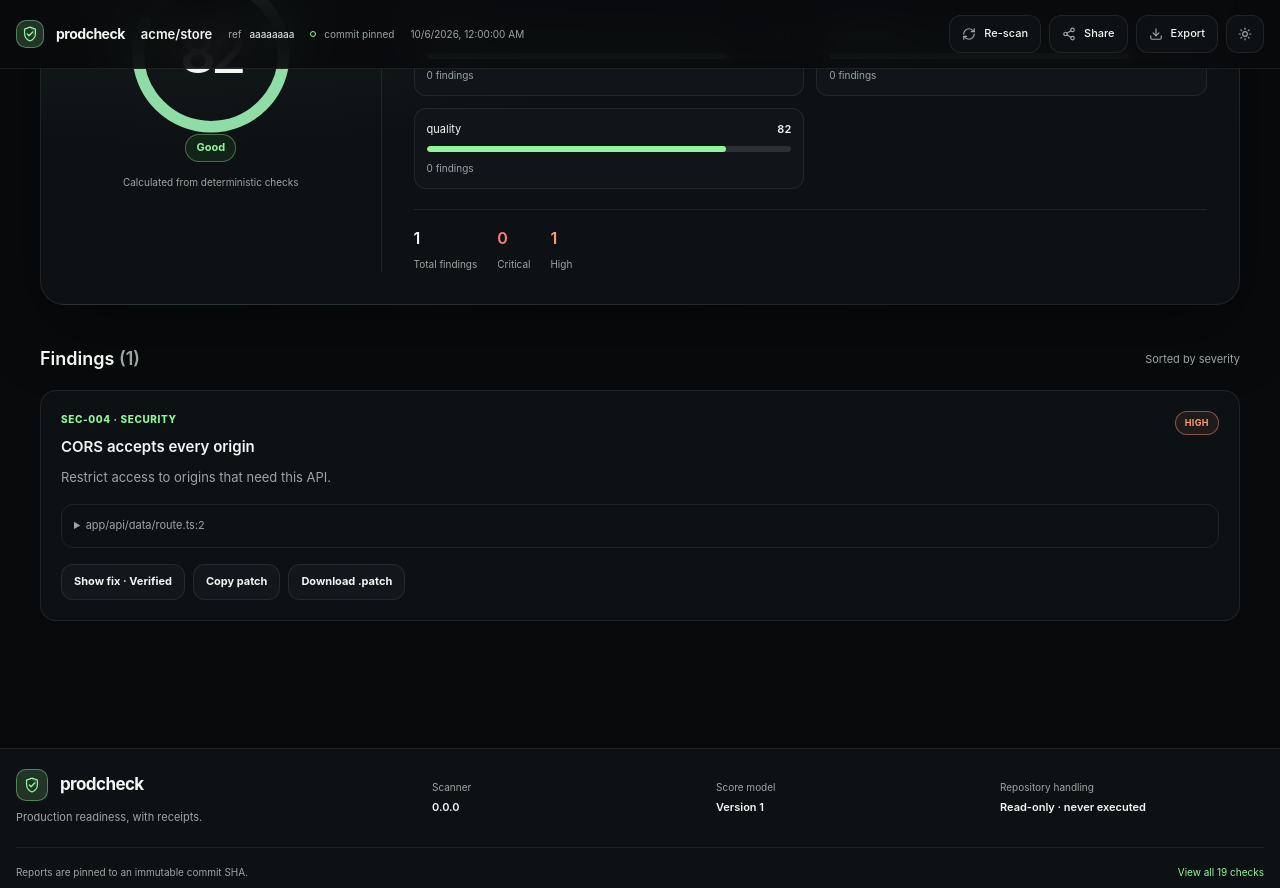
Test case: shared UI button › renders an accessible score summary and verified finding fix
(page scrolled)
Click the button "Show fix · Verified": click(123, 582) [61, 564, 185, 600]
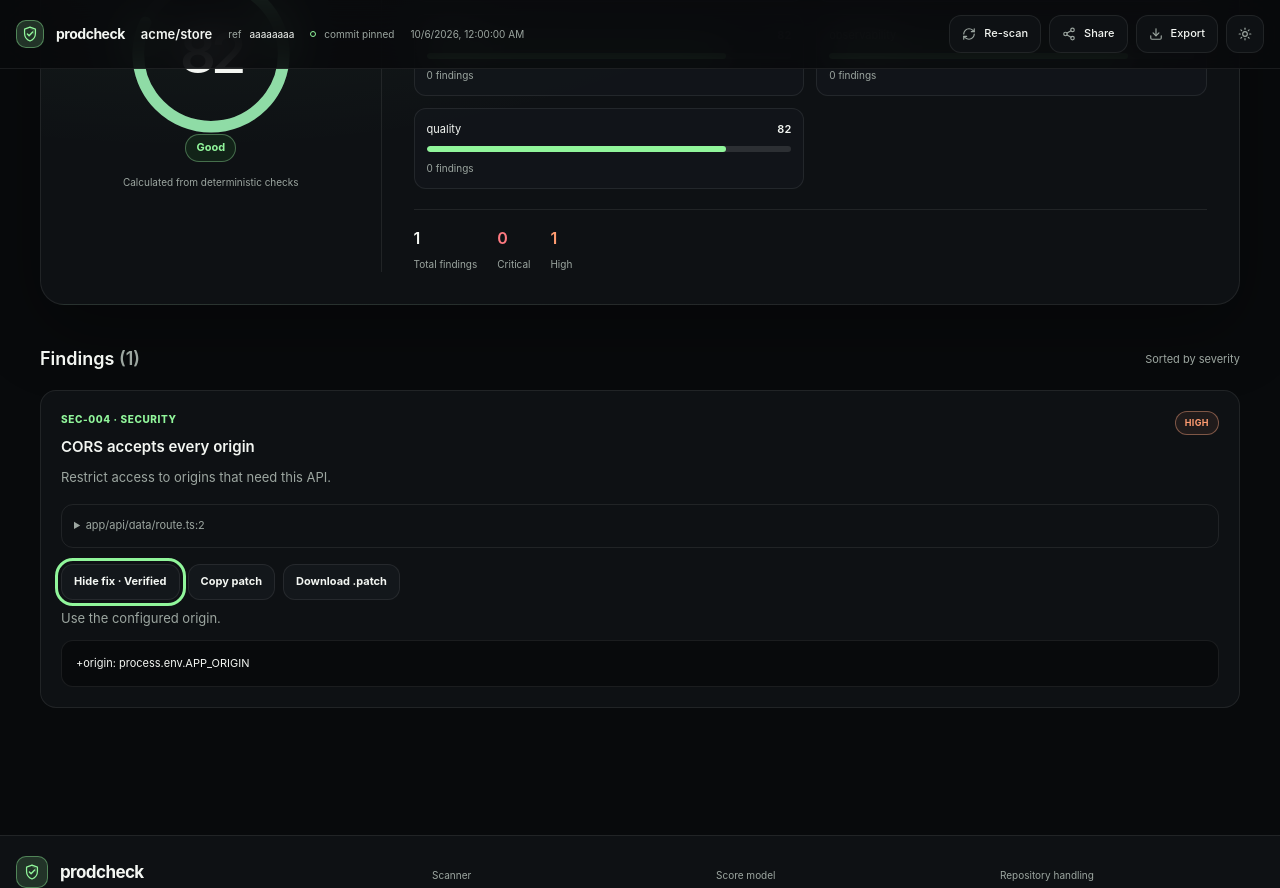
Check: the text "commit pinned" is shown, box [310, 26, 394, 42]
Check: the text named "Patch for CORS accepts every origin" shows "APP_ORIGIN", box [76, 656, 250, 670]
Click the button "Export": click(1177, 34) [1136, 15, 1218, 53]
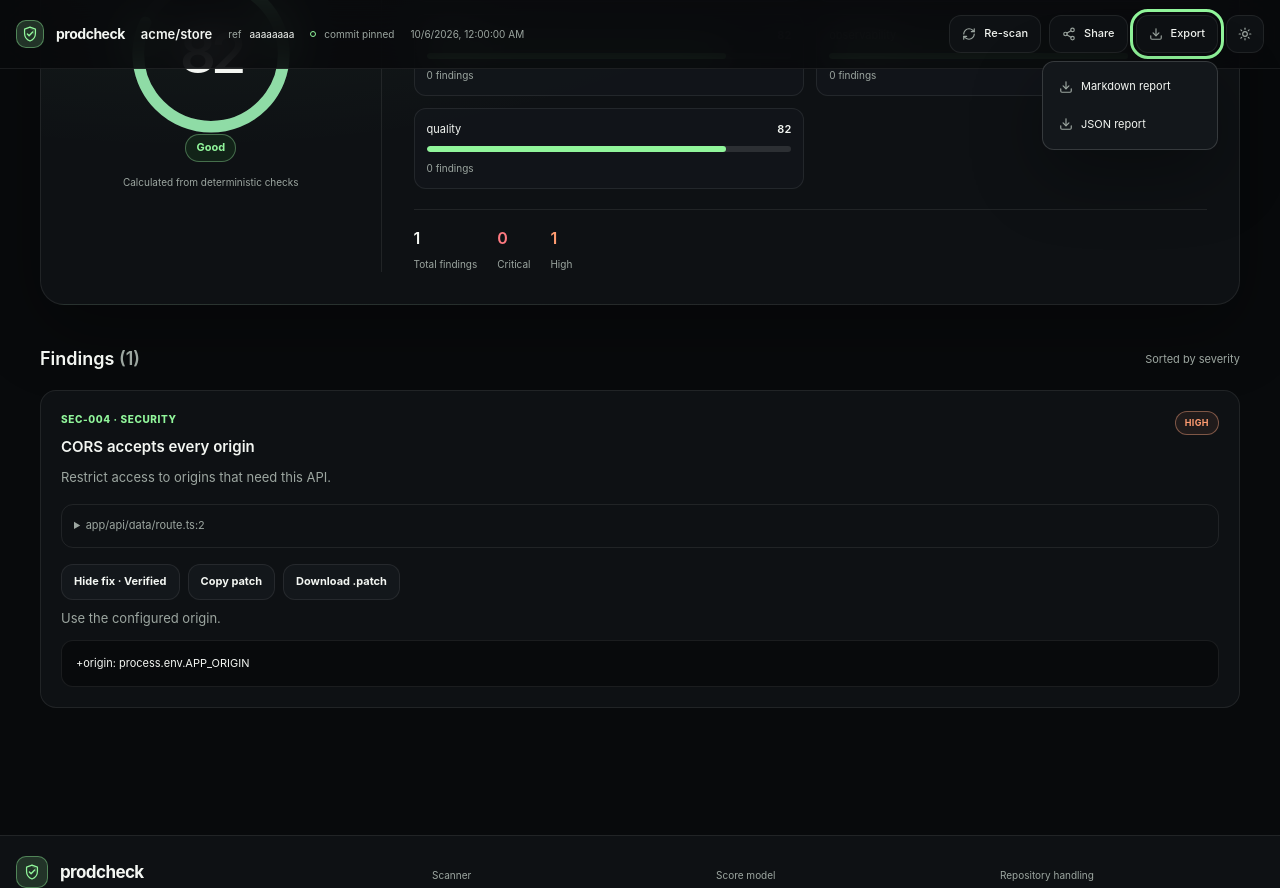
Check: the button "Markdown report" is shown, box [1051, 70, 1209, 104]
Check: the button "JSON report" is shown, box [1051, 108, 1209, 141]
